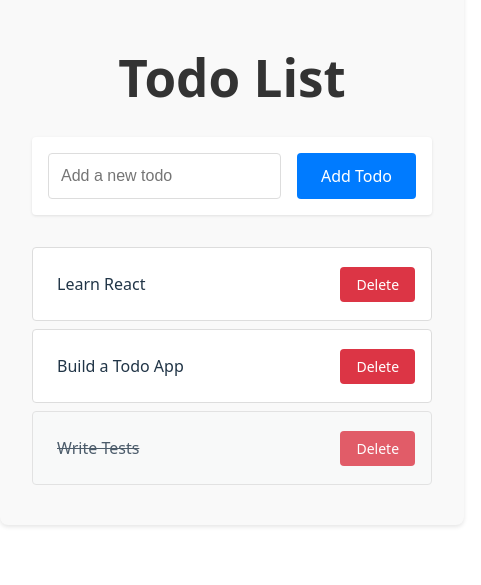
Test: adds a new todo when form is submitted
Step 1. Type "New Test Todo" into the field with placeholder "Add a new todo" → {"x": 164, "y": 176}, box [48,153,281,199]
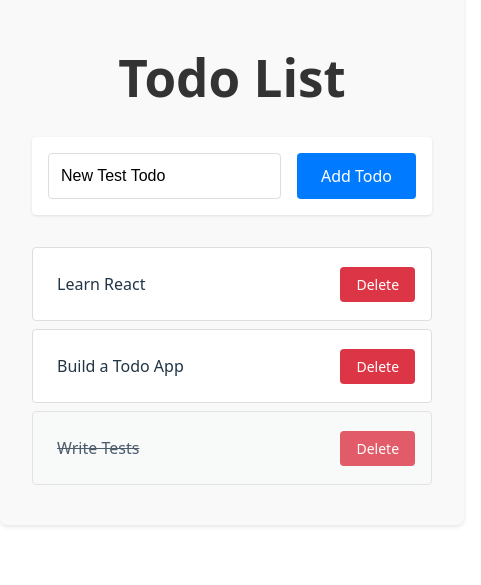
Step 2. Click the button "Add Todo" → {"x": 356, "y": 176}, box [297,153,416,199]
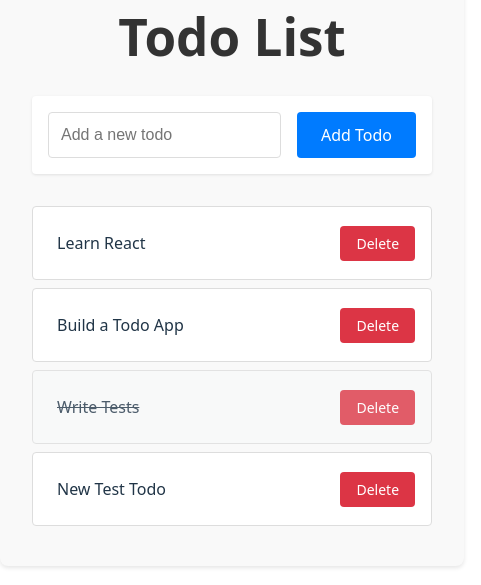
Expected: the text "New Test Todo" is shown, [57,478,166,500]
Expected: the field with placeholder "Add a new todo" is empty, [48,112,281,158]
